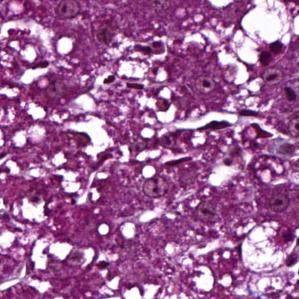ballooning: (230, 3, 293, 69), (237, 218, 299, 275)
